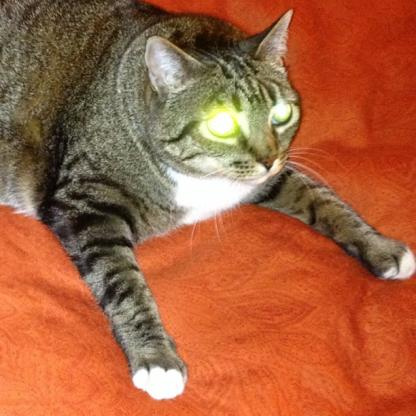Target: (0, 0, 416, 401)
